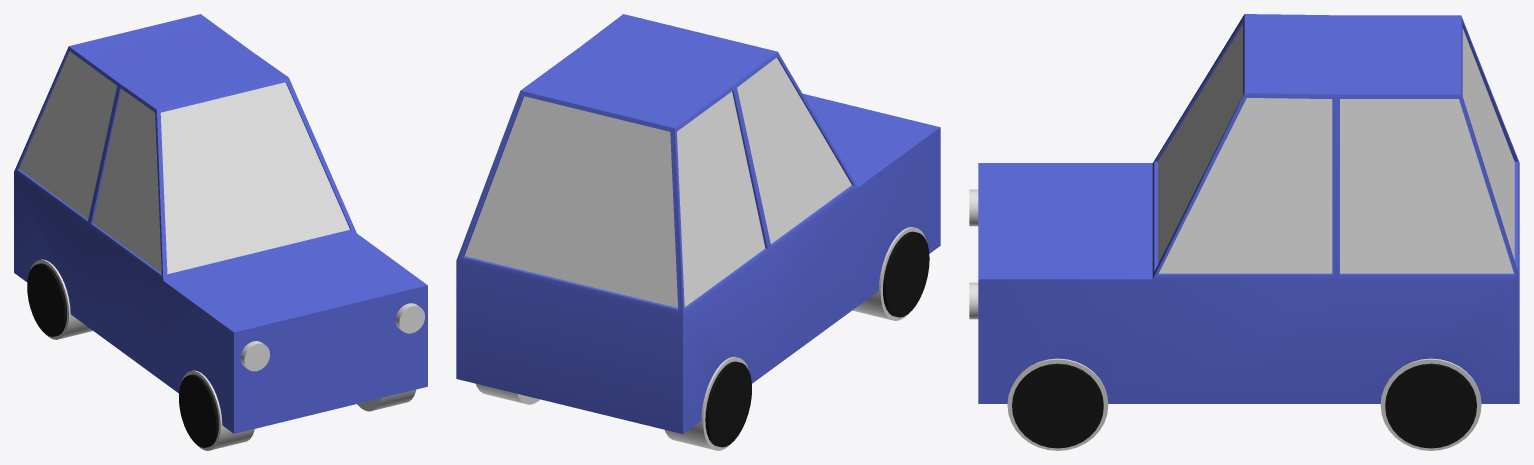
The model's file is Car.fbx.
The picture shows the model from 3 angles, left to right: view 1: azimuth 30°, elevation 25°; view 2: azimuth 150°, elevation 25°; view 3: azimuth 270°, elevation 25°; orthographic projection. The views are drawn at different scales.
Parts seen in each view (by area): view 1: Car, Wheels, WheelSpaces, Lights; view 2: Car, Wheels, WheelSpaces; view 3: Car, Wheels, WheelSpaces, Lights.
Part boxes in pixels (<box>): Car: <box>14,14,427,433</box>; Wheels: <box>27,263,218,447</box>; WheelSpaces: <box>29,259,416,450</box>; Lights: <box>240,303,424,371</box>; Car: <box>456,14,940,433</box>; Wheels: <box>705,231,929,447</box>; WheelSpaces: <box>476,227,926,450</box>; Car: <box>978,14,1519,403</box>; Wheels: <box>1012,363,1476,448</box>; WheelSpaces: <box>1007,358,1481,450</box>; Lights: <box>969,189,978,319</box>.
Bounding box in the file's own units: 157 × 203 × 300.
